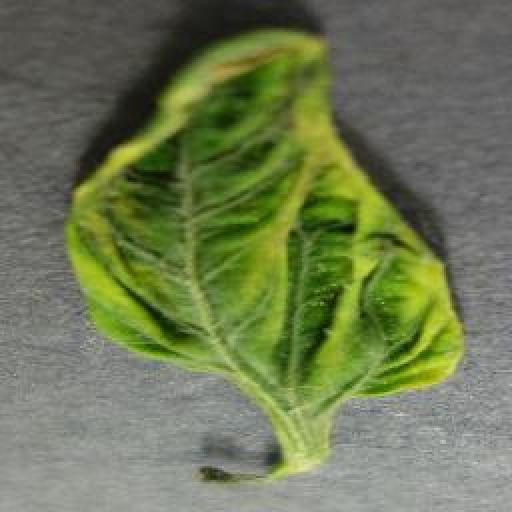Yellow Leaf Curl Virus: (64, 25, 462, 403)
